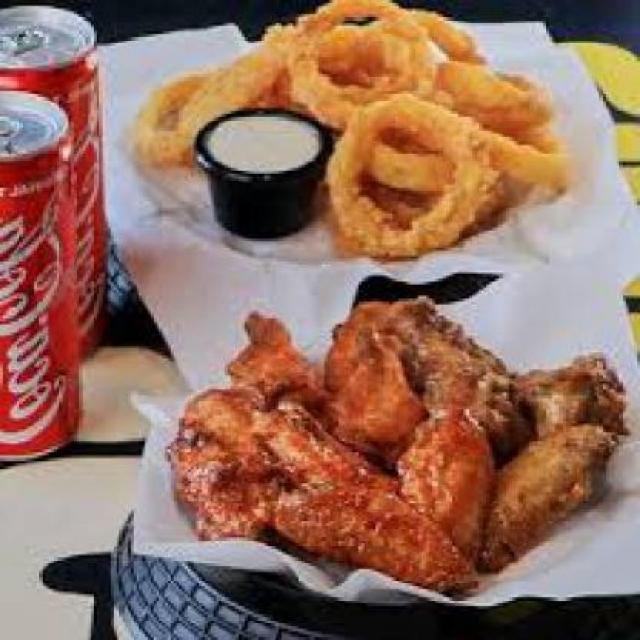chicken wings: (162, 287, 623, 591)
onion rings: (125, 2, 581, 260)
